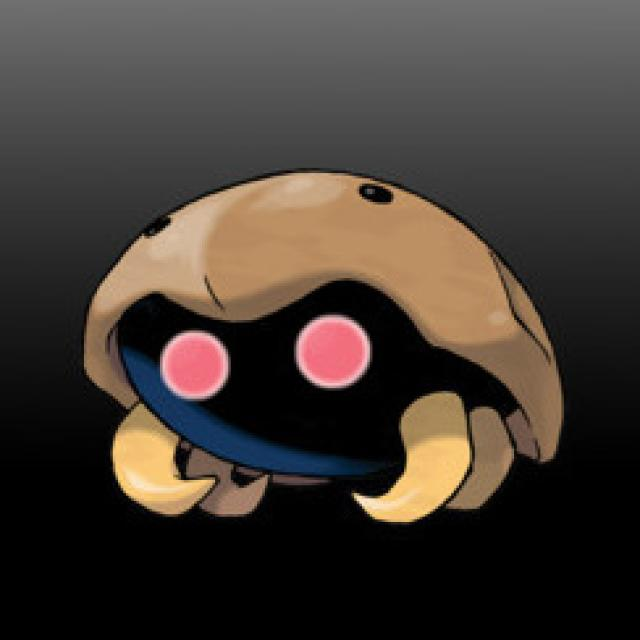Kabuto: (52, 149, 586, 524)
